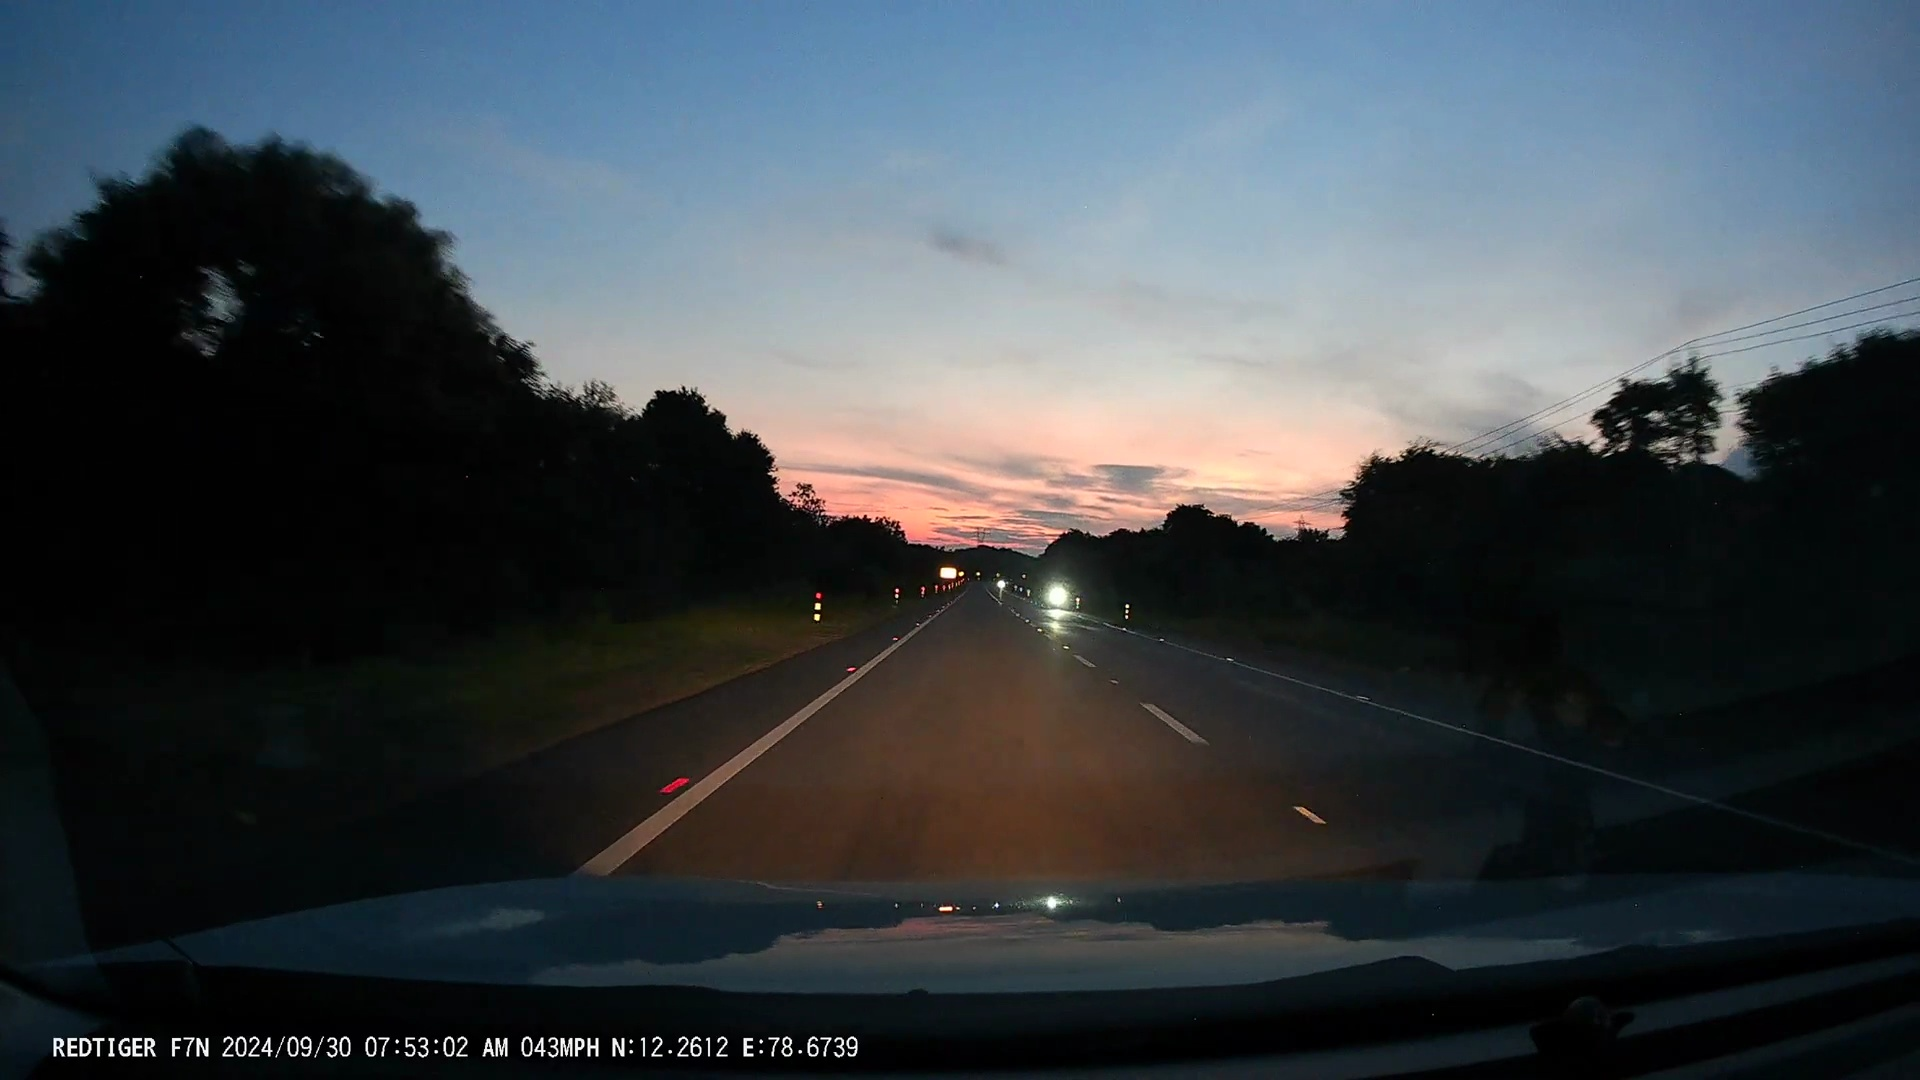headlight: (1048, 585, 1065, 604), (996, 580, 1007, 588)
two wheeler: (1042, 572, 1073, 616), (996, 571, 1007, 599)
